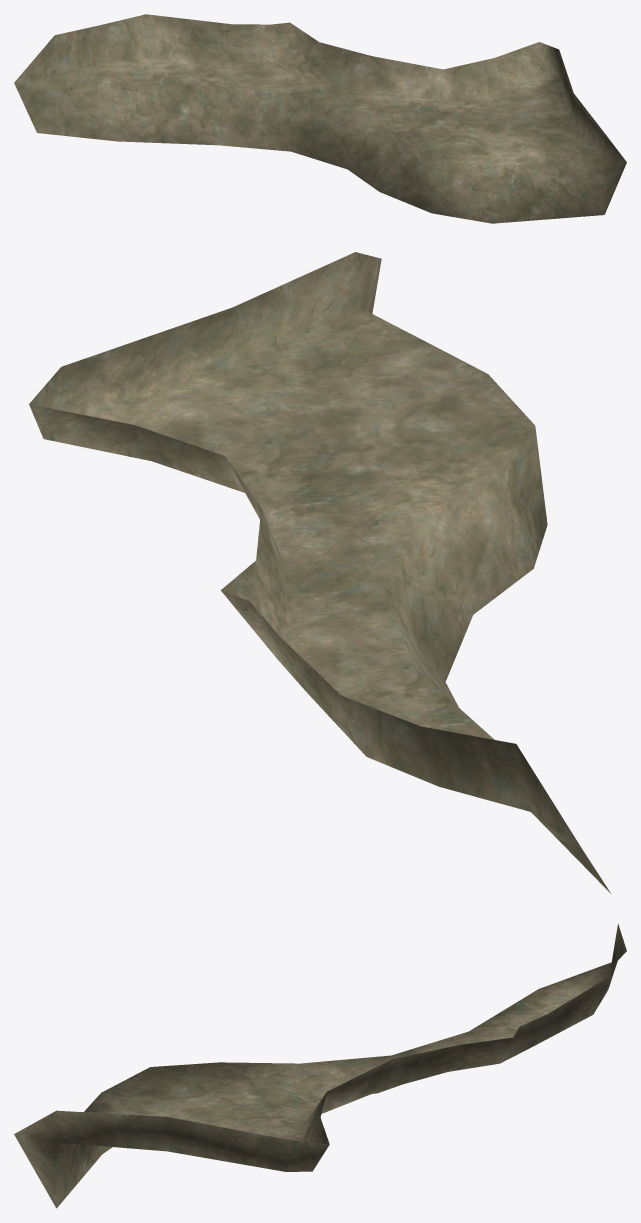
The model's file is EKH_GROTTO_PS_GR_OBJECT11.fbx.
The picture shows the model from 3 angles, top to bottom: view 1: azimuth 30°, elevation 25°; view 2: azimuth 150°, elevation 25°; view 3: azimuth 270°, elevation 25°; orthographic projection. The views are drawn at different scales.
Visible parts, largest first — view 1: EKH_GROTTO_PS_GR_OBJECT11; view 2: EKH_GROTTO_PS_GR_OBJECT11; view 3: EKH_GROTTO_PS_GR_OBJECT11.
Part boxes in pixels (left/top/right/bottom): EKH_GROTTO_PS_GR_OBJECT11: left=14, top=14, right=626, bottom=223; EKH_GROTTO_PS_GR_OBJECT11: left=29, top=252, right=610, bottom=893; EKH_GROTTO_PS_GR_OBJECT11: left=14, top=923, right=626, bottom=1208.
Size of the model in its own units: 49519 by 10047 by 54535.
Materials: 1 (1 with a texture image).
